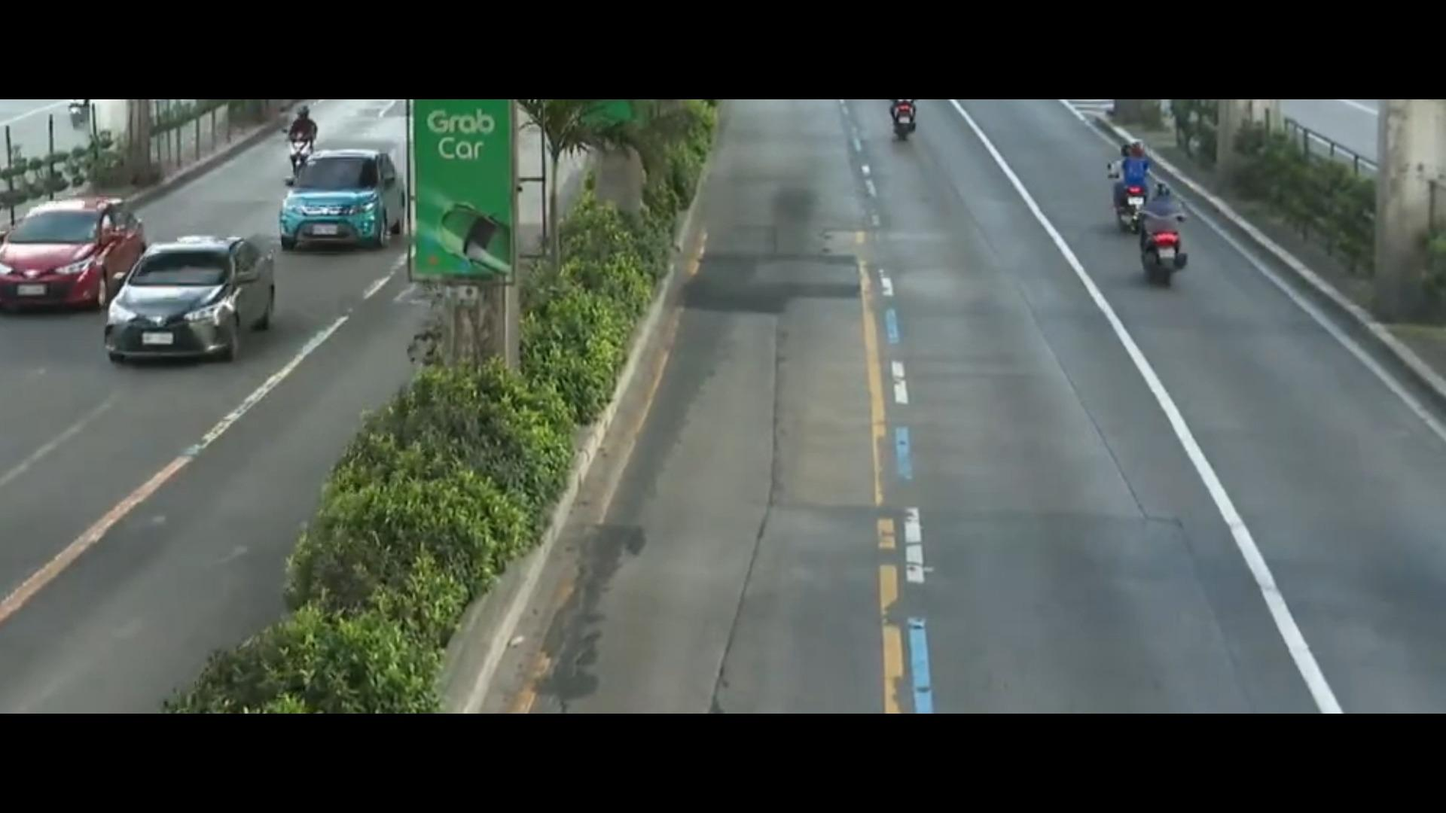Motorcycle: (1131, 179, 1224, 310), (1108, 142, 1158, 244), (273, 96, 322, 189), (879, 100, 932, 149)
Sedan: (87, 219, 309, 370), (0, 155, 149, 311), (253, 132, 409, 280)
